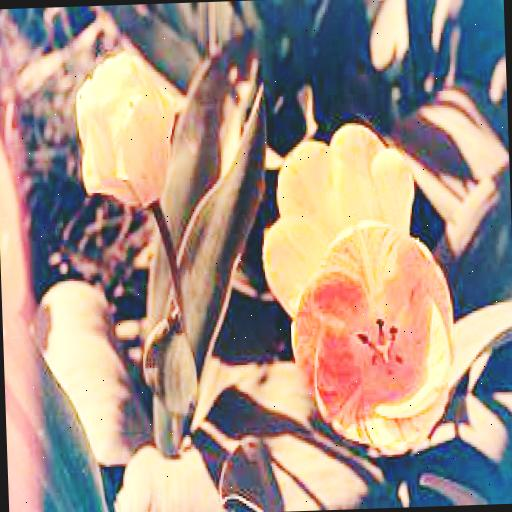tulip: (286, 219, 462, 460), (74, 49, 184, 208)
